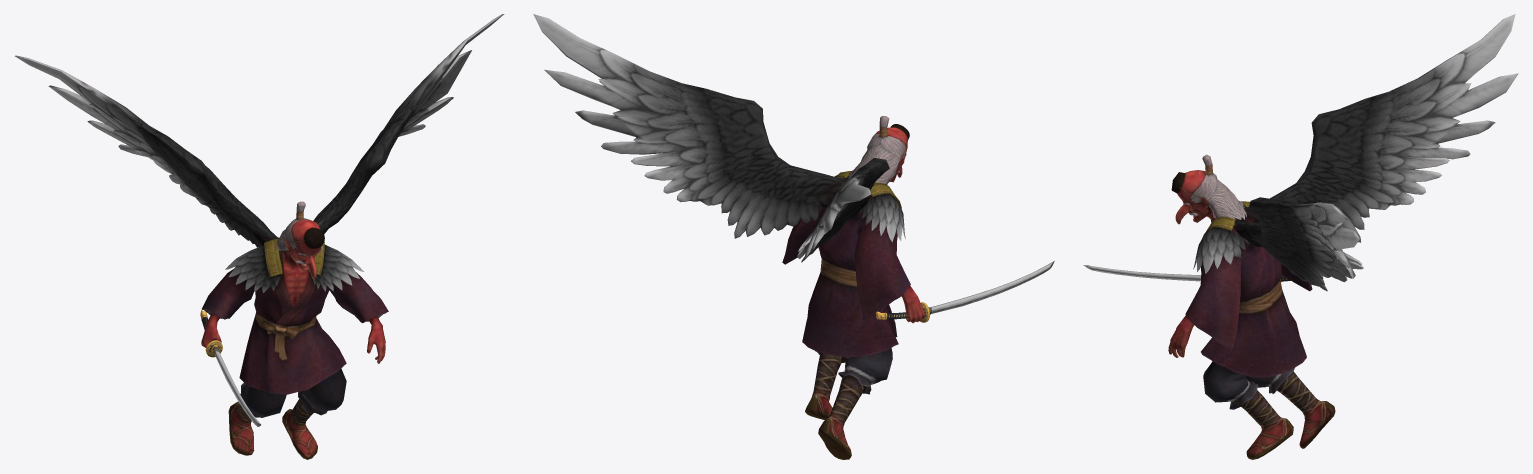
The model's file is 198-tengu.glb.
The picture shows the model from 3 angles, left to right: view 1: azimuth 30°, elevation 25°; view 2: azimuth 150°, elevation 25°; view 3: azimuth 270°, elevation 25°; orthographic projection. The views are drawn at different scales.
Bounding box in the file's own units: 3.67 × 3.16 × 3.33.
2 materials, 2 textured.
